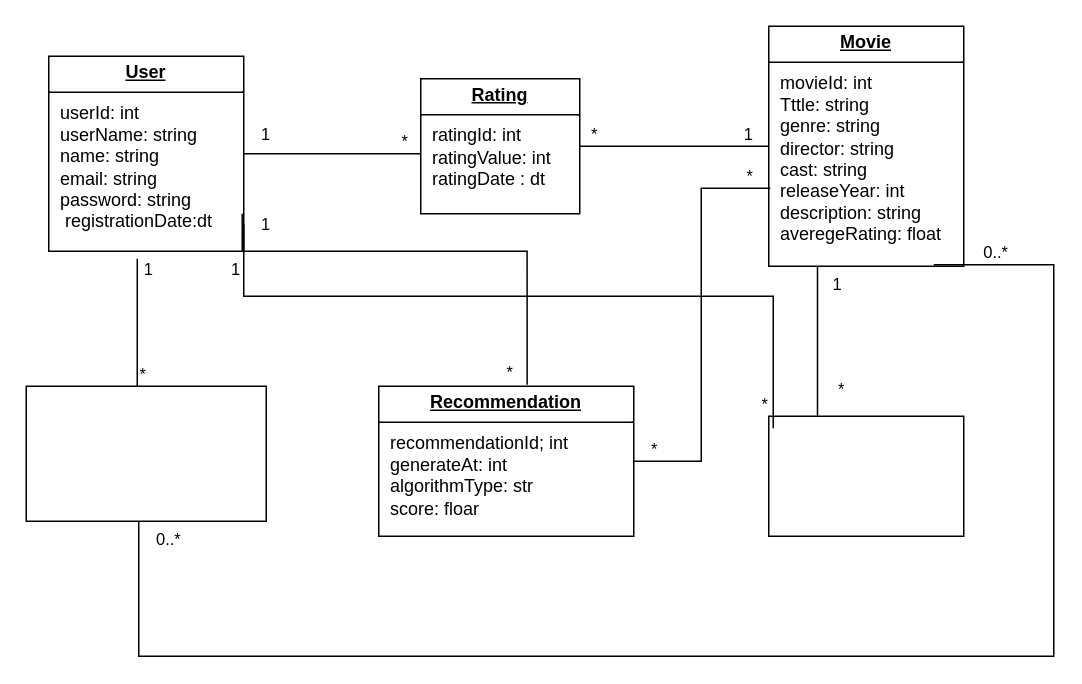
The diagram is 1082 pixels wide and 684 high, and some of its shapes have lost their labels. The centre of each missing label's shape, as x and y in pixels:
"History historyId: int watchedDate : dt actionType : string" goes at point 145,453.
"WatchlistItem watchlistItemId: int addedDate : dt" goes at point 865,475.
